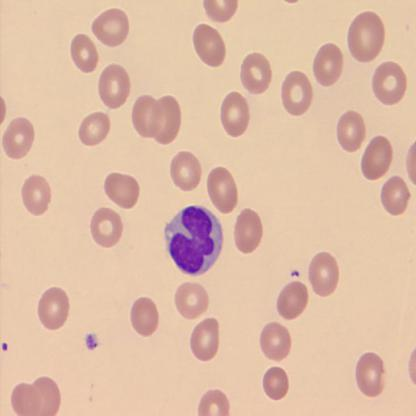Monocyte: (164, 203, 226, 276)
